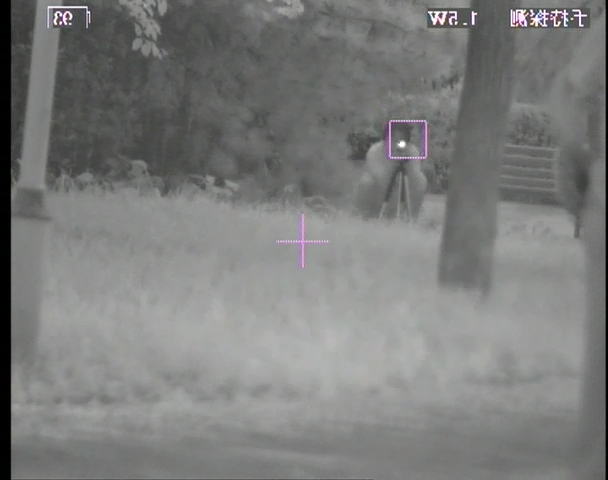my: (395, 139, 407, 149)
